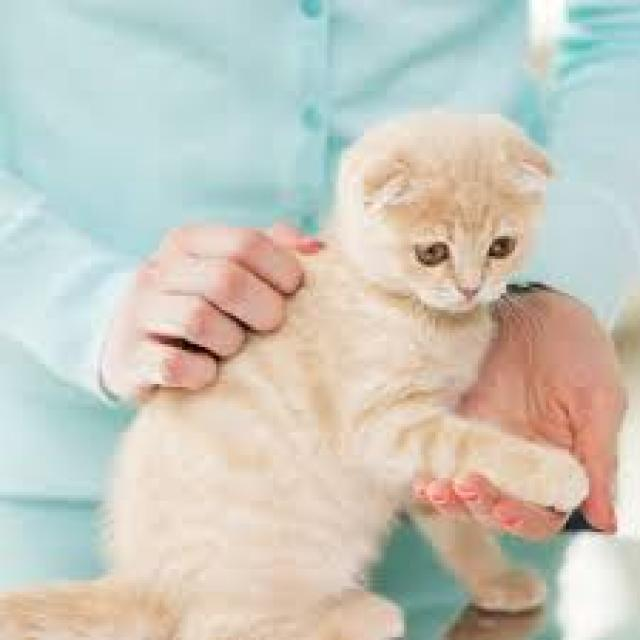cat-face: (253, 77, 580, 351)
